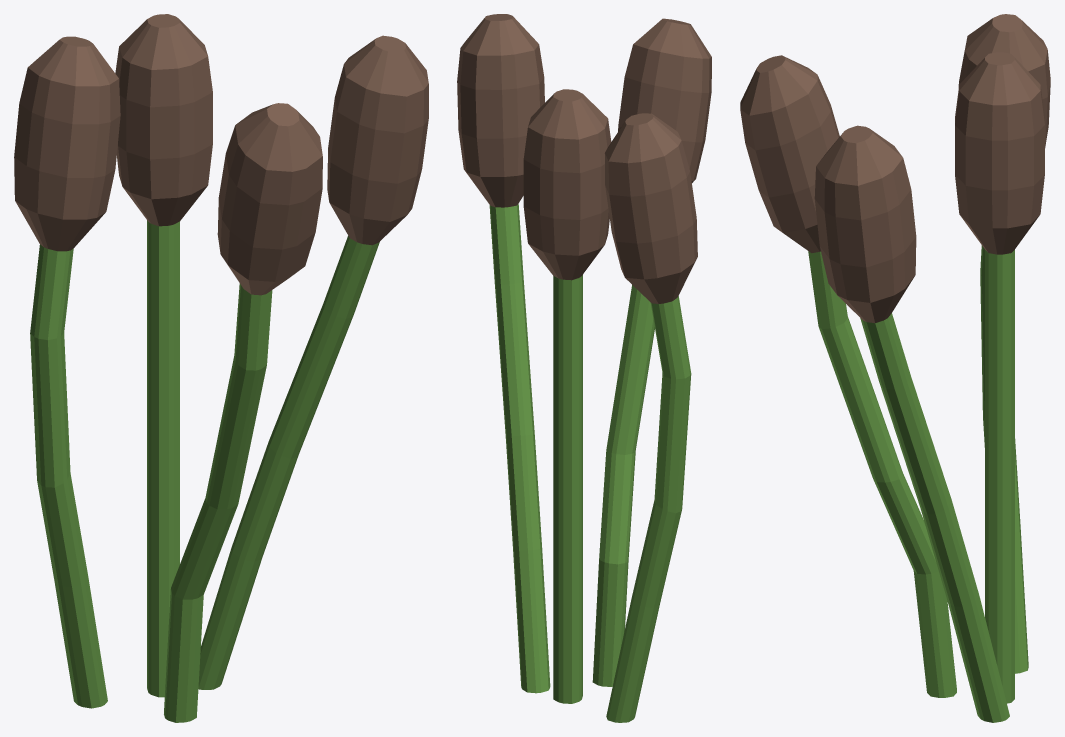
The model's file is Grass1.fbx.
The picture shows the model from 3 angles, left to right: view 1: azimuth 30°, elevation 25°; view 2: azimuth 150°, elevation 25°; view 3: azimuth 270°, elevation 25°; orthographic projection. The views are drawn at different scales.
Parts seen in each view (by area): view 1: Grass1; view 2: Grass1; view 3: Grass1.
Boxes of the visible parts, box(x1,y1,x2,y2) form: Grass1: box(14, 14, 428, 722); Grass1: box(457, 14, 711, 722); Grass1: box(740, 14, 1050, 722).
Bounding box in the file's own units: 103 × 201 × 88.46.
